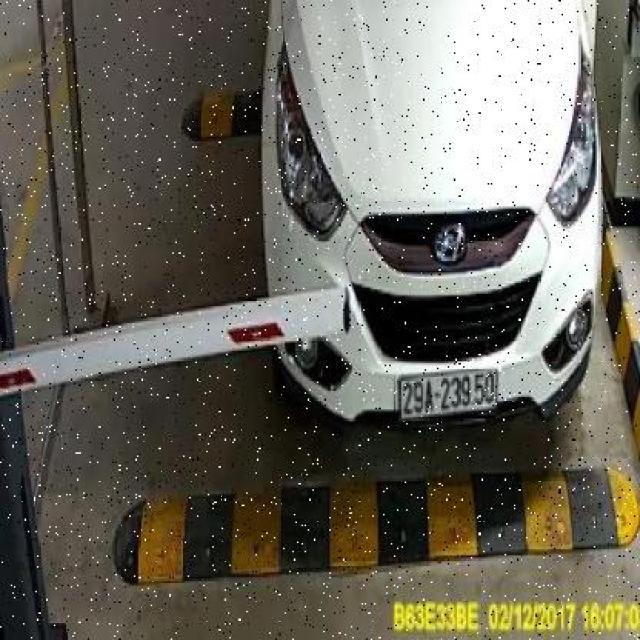number_plate: (395, 369, 496, 418)
